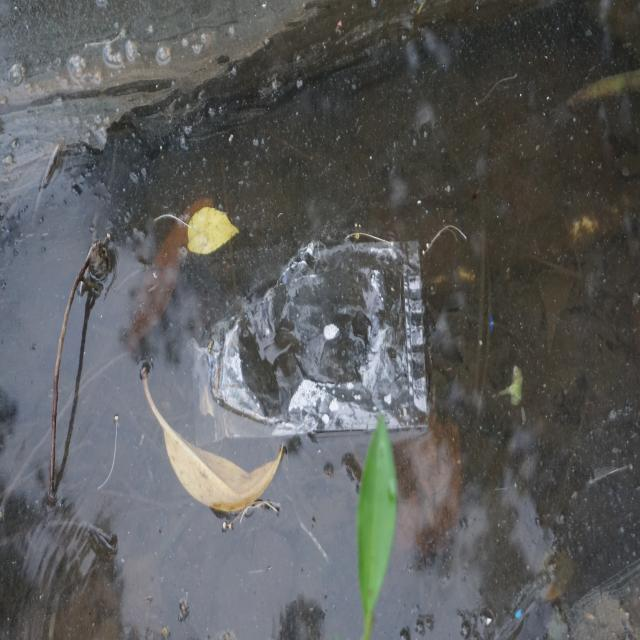Kantong Plastik: (190, 235, 435, 450)
